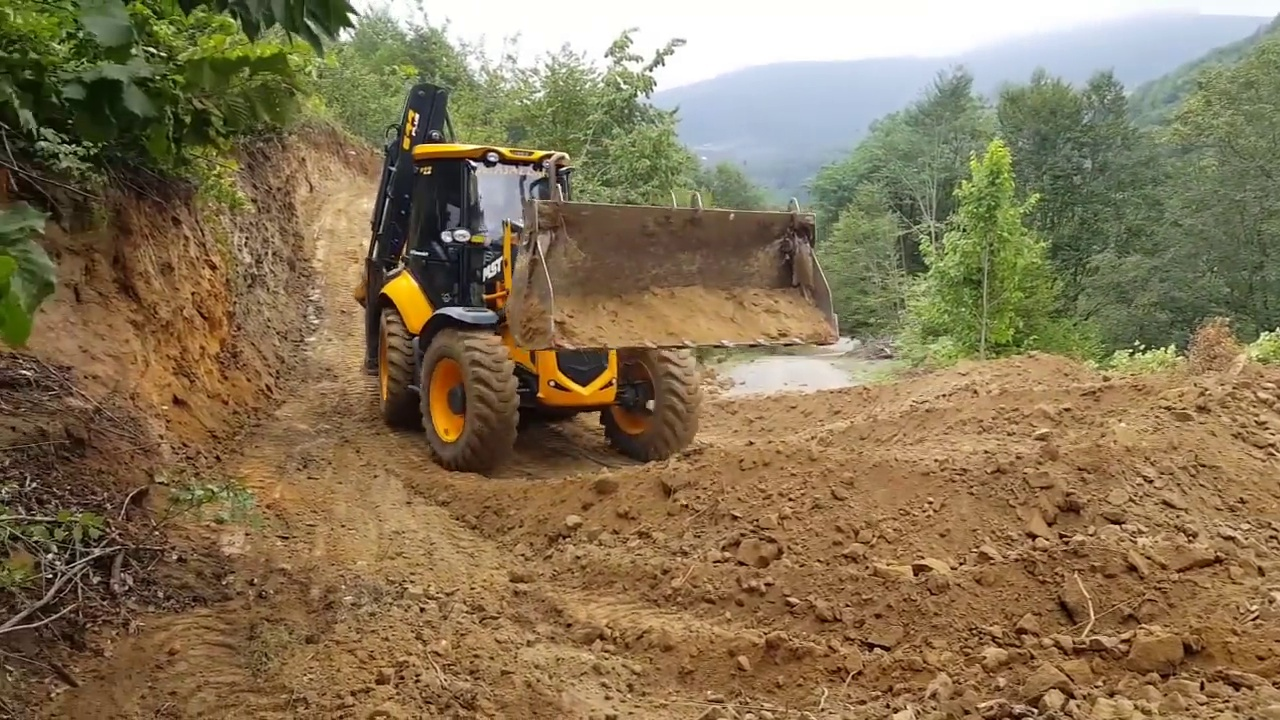wheel loader: (355, 71, 840, 467)
